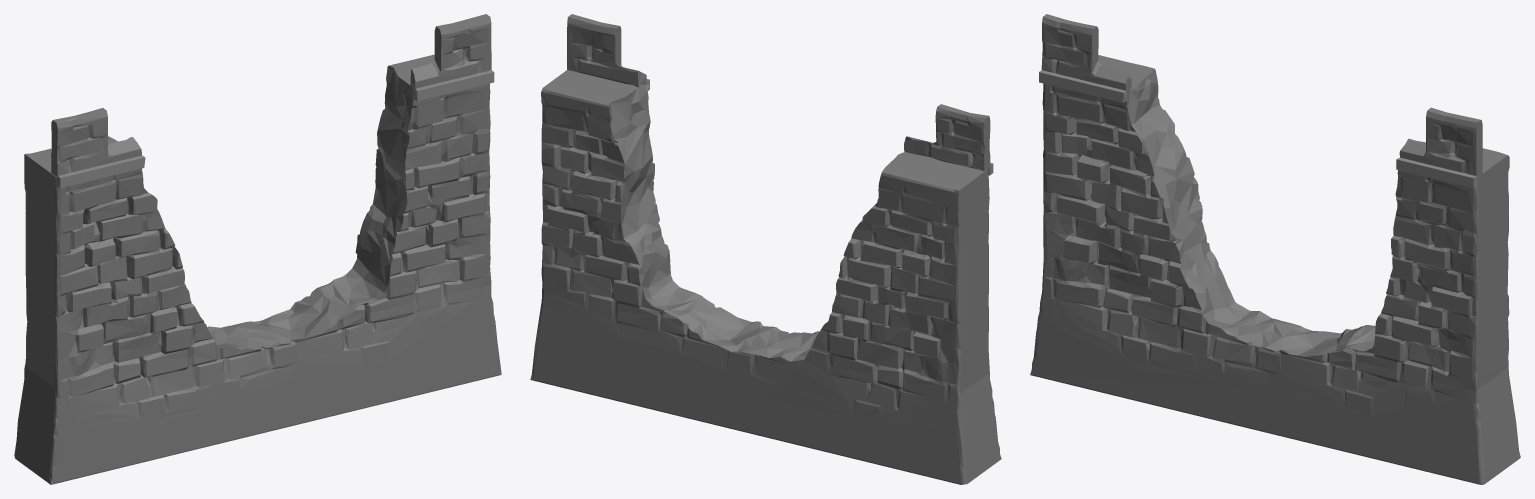
Rendered from castle_battlement_c1_destroyed.FBX.
The picture shows the model from 3 angles, left to right: view 1: azimuth 30°, elevation 25°; view 2: azimuth 150°, elevation 25°; view 3: azimuth 330°, elevation 25°; orthographic projection. The views are drawn at different scales.
Visible parts, largest first — view 1: castle_battlement_c1_destroyed; view 2: castle_battlement_c1_destroyed; view 3: castle_battlement_c1_destroyed.
Part boxes in pixels (left/top/right/bottom): castle_battlement_c1_destroyed: left=14, top=14, right=501, bottom=484; castle_battlement_c1_destroyed: left=530, top=14, right=1001, bottom=484; castle_battlement_c1_destroyed: left=1030, top=14, right=1520, bottom=484.
Size of the model in its own units: 15.63 by 11.8 by 2.31.
